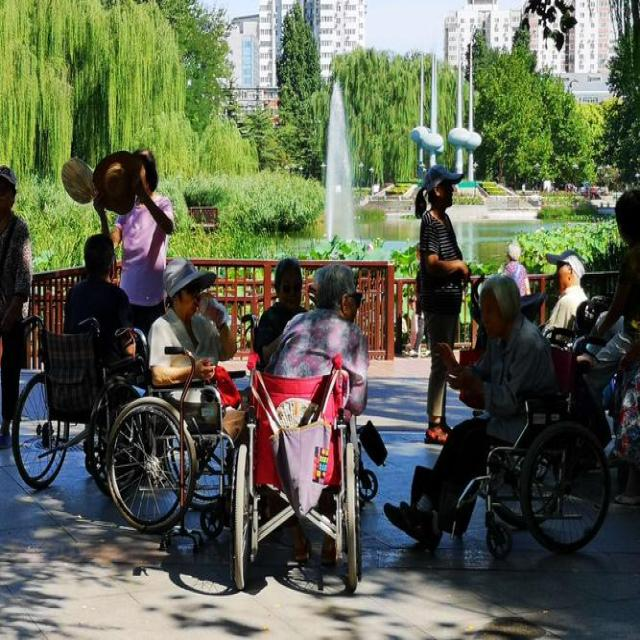wheelchairs: (221, 348, 378, 606), (97, 345, 236, 546), (10, 306, 154, 498)
